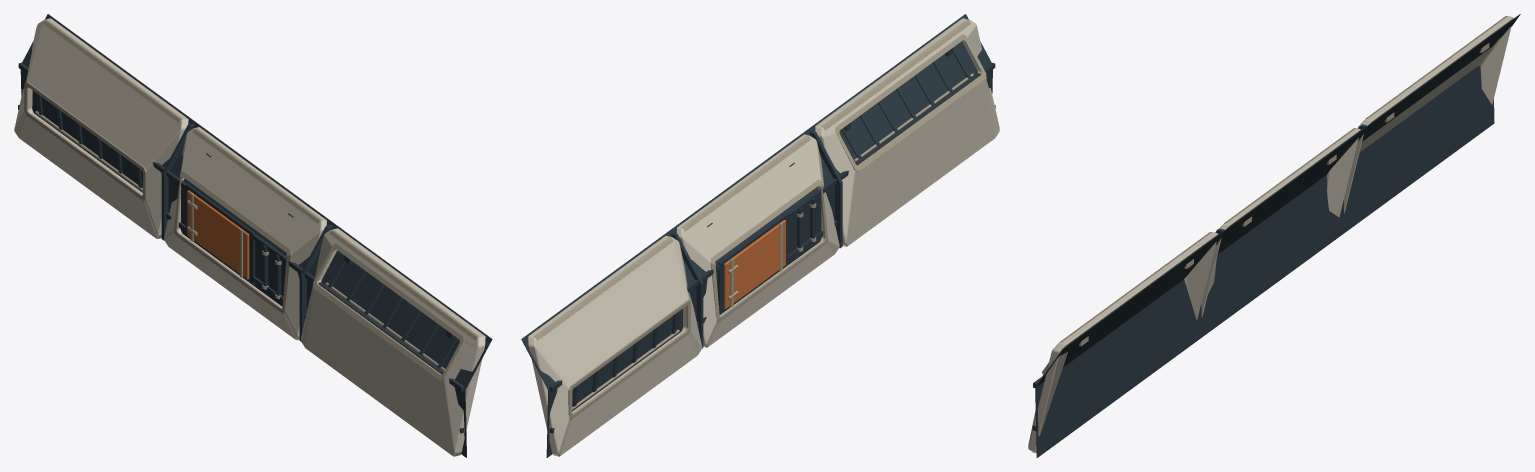
The model's file is wallride-service.glb.
3 views of the same model, side by side, from view 1: azimuth 30°, elevation 25°; view 2: azimuth 150°, elevation 25°; view 3: azimuth 330°, elevation 25° (orthographic). The views are drawn at different scales.
Visible parts, largest first — view 1: nomad_wallride_service__warm_ivory_armour, nomad_wallride_service__navy_structural_steel, nomad_wallride_service__rubbed_warm_alloy, nomad_wallride_service__oxide_freight_enamel; view 2: nomad_wallride_service__warm_ivory_armour, nomad_wallride_service__navy_structural_steel, nomad_wallride_service__rubbed_warm_alloy, nomad_wallride_service__oxide_freight_enamel; view 3: nomad_wallride_service__navy_structural_steel, nomad_wallride_service__warm_ivory_armour, nomad_wallride_service__rubbed_warm_alloy.
Boxes of the visible parts, box(x1,y1,x2,y2) form: nomad_wallride_service__warm_ivory_armour: box(14, 18, 485, 456); nomad_wallride_service__navy_structural_steel: box(18, 14, 492, 457); nomad_wallride_service__rubbed_warm_alloy: box(24, 19, 478, 380); nomad_wallride_service__oxide_freight_enamel: box(187, 190, 249, 279); nomad_wallride_service__warm_ivory_armour: box(528, 18, 999, 456); nomad_wallride_service__navy_structural_steel: box(521, 14, 995, 457); nomad_wallride_service__rubbed_warm_alloy: box(534, 19, 986, 419); nomad_wallride_service__oxide_freight_enamel: box(724, 220, 785, 308); nomad_wallride_service__navy_structural_steel: box(1032, 14, 1520, 457); nomad_wallride_service__warm_ivory_armour: box(1028, 16, 1513, 453); nomad_wallride_service__rubbed_warm_alloy: box(1042, 16, 1507, 373).
Size of the model in its own units: 14.69 by 43.48 by 308.
